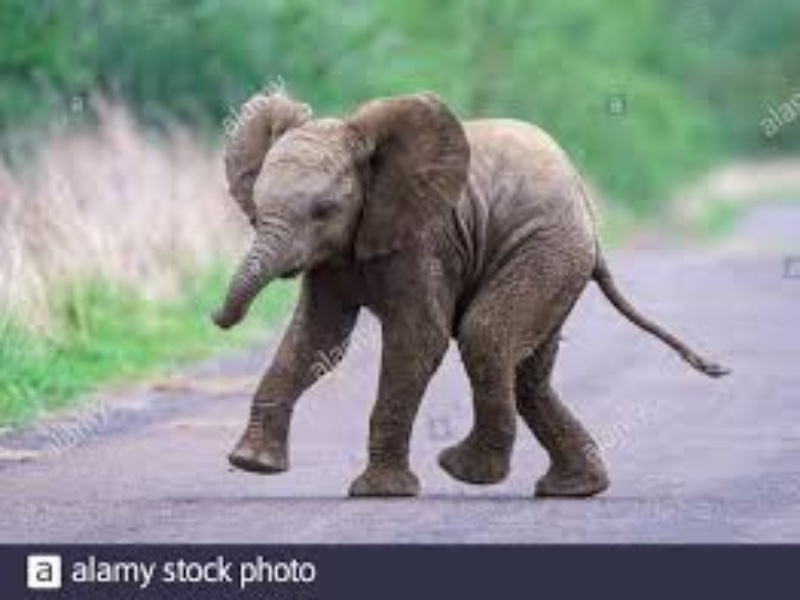elephant: (192, 94, 724, 501)
